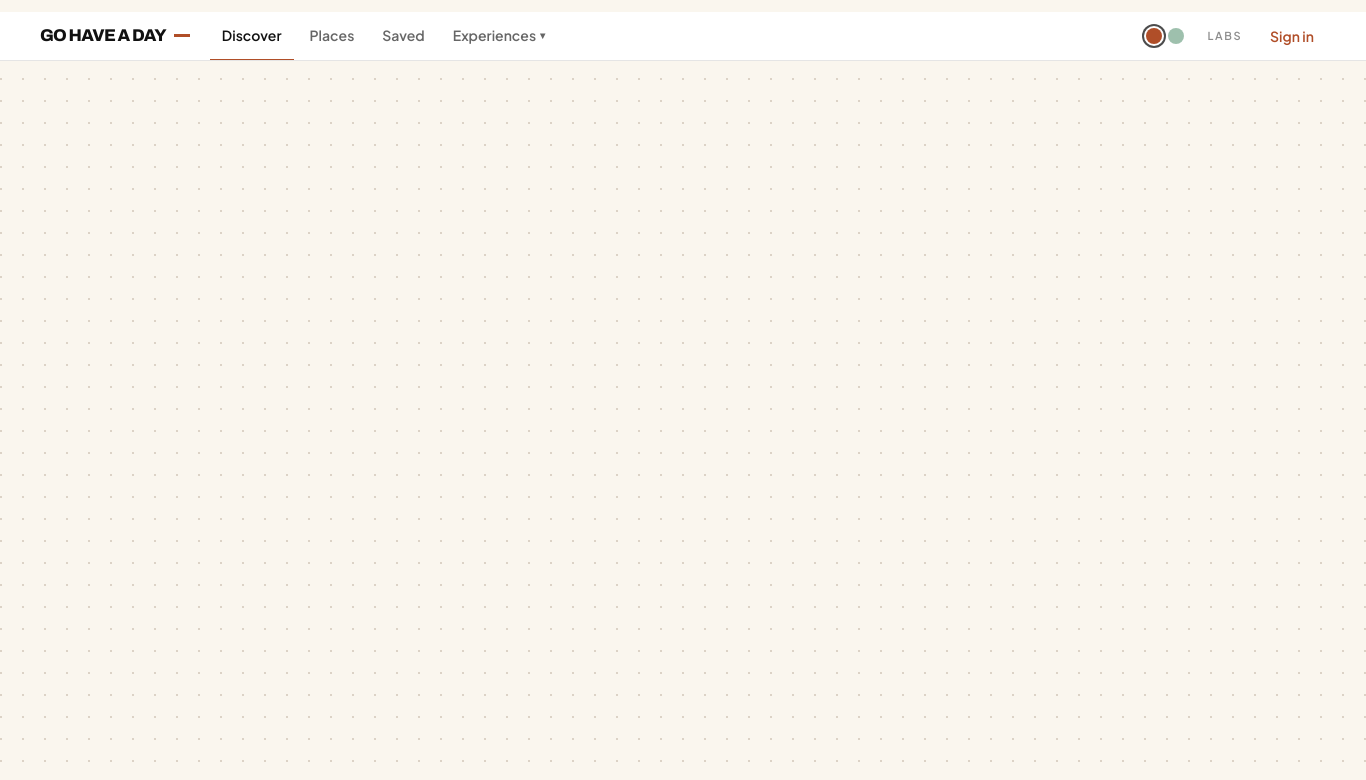
Test case: experiences › opens to the three existing routes, in the stated order
Click the button with test id "passport-nav-experiences": coordinates (499, 36) [441,12,557,60]
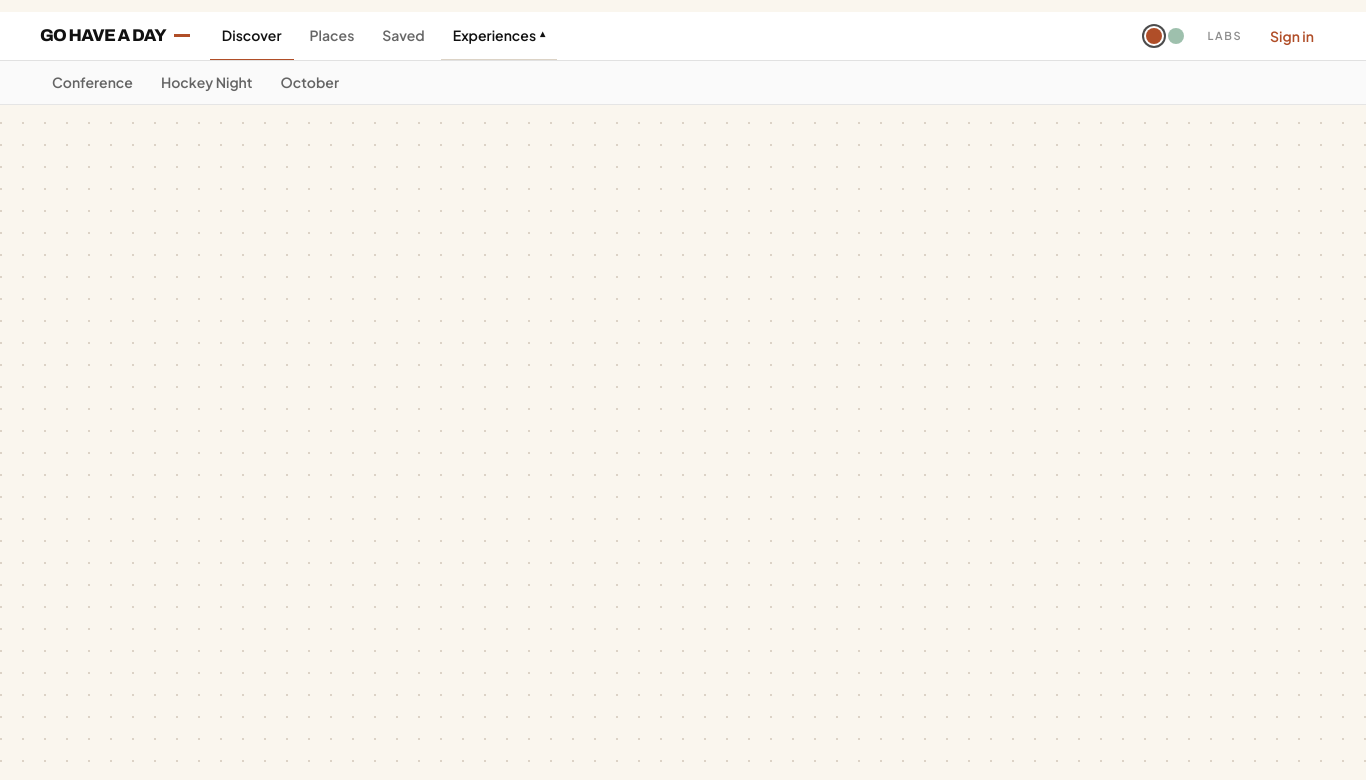
Now the button with test id "passport-nav-experiences" is expanded, box [441,12,557,60]
